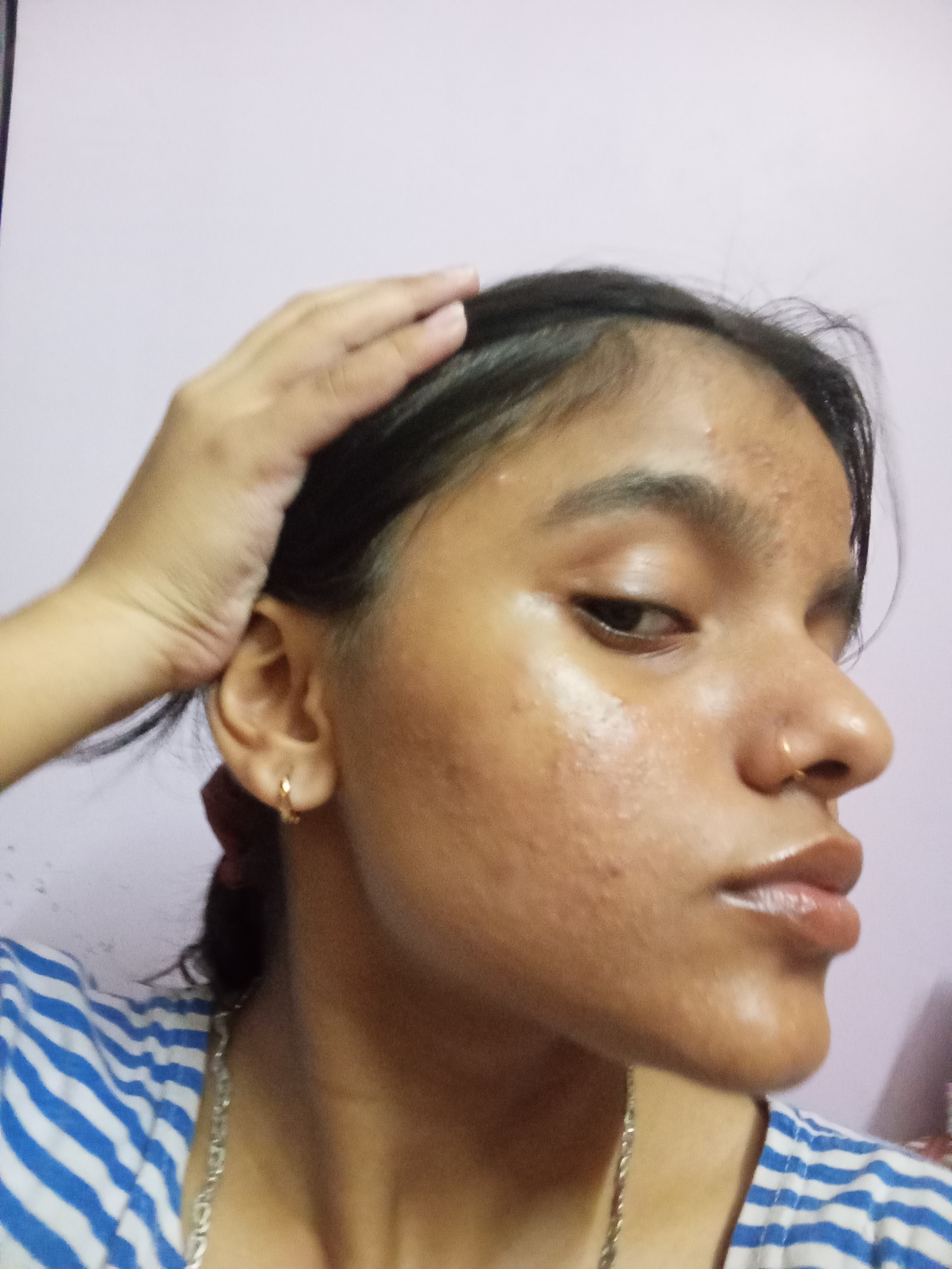macrocomedone: (776, 480, 799, 501)
papule: (607, 690, 639, 719), (487, 465, 515, 489), (698, 419, 720, 441)
